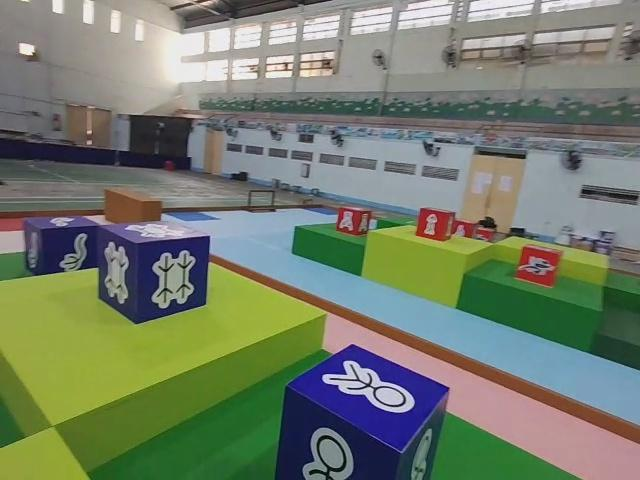R2 Real Blue: (274, 344, 448, 480), (95, 222, 211, 326), (24, 218, 108, 280)
